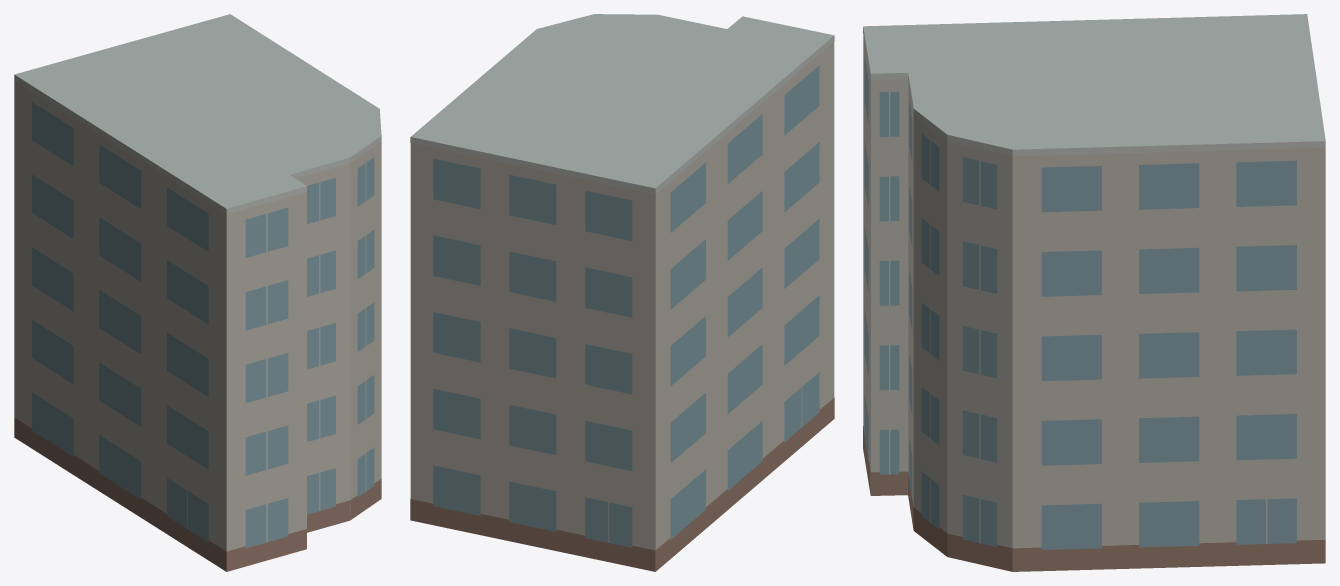
The model's file is survey-upis-32666442.glb.
The picture shows the model from 3 angles, left to right: view 1: azimuth 30°, elevation 25°; view 2: azimuth 150°, elevation 25°; view 3: azimuth 270°, elevation 25°; orthographic projection. The views are drawn at different scales.
Parts seen in each view (by area): view 1: survey-upis-32666442.tmp; view 2: survey-upis-32666442.tmp; view 3: survey-upis-32666442.tmp.
Boxes of the visible parts, x1,y1,x2,y2 form: survey-upis-32666442.tmp: (14,14,381,571); survey-upis-32666442.tmp: (410,14,834,571); survey-upis-32666442.tmp: (863,14,1325,571).
Bounding box in the file's own units: 10.69 × 15.5 × 15.4.
